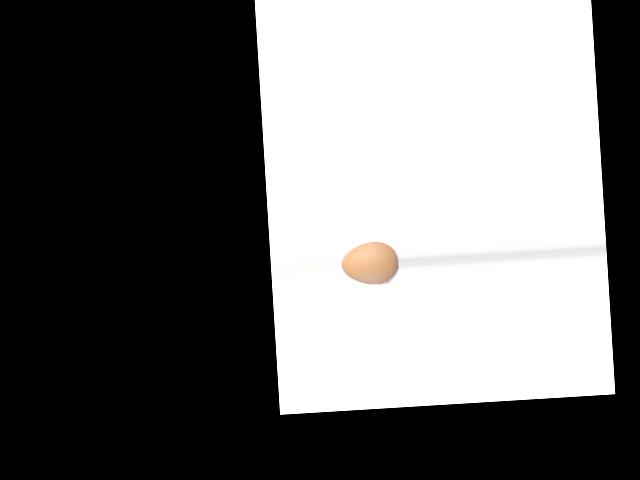egg: (341, 240, 399, 286)
